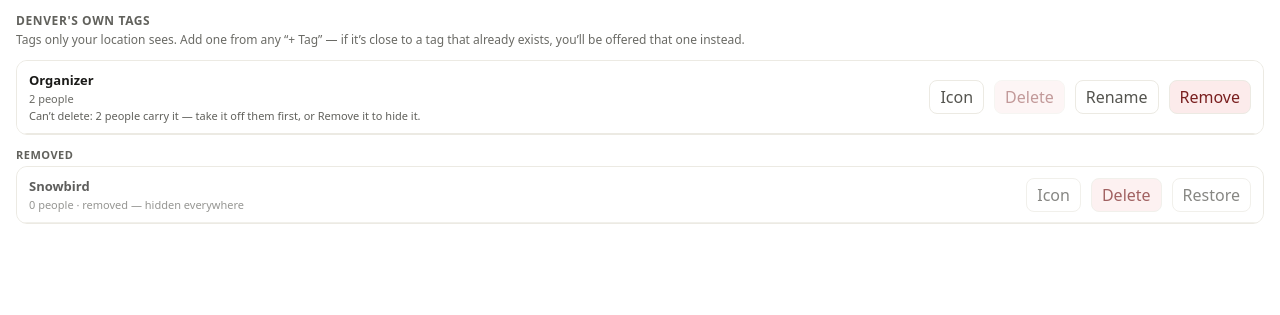
Test: E) Settings › Tags: Icon and Delete › Icon opens the curated grid and saves the pick
The width and height of the screenshot is (1280, 315).
Click the button "Icon" in the row of "Can’t delete:" at (957, 97), box [929,80,984,114]
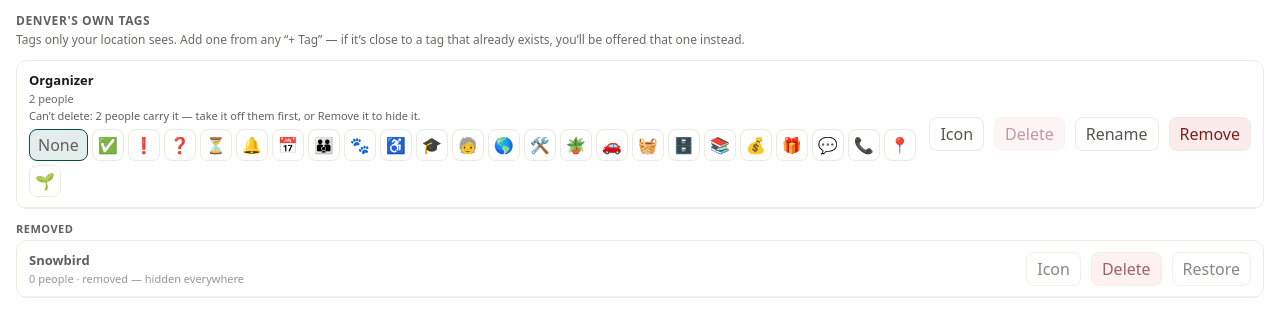
Expected: the number of radio buttons is 25
Click the radio button labelled "🗄️" at (684, 145), box [668,129,700,161]
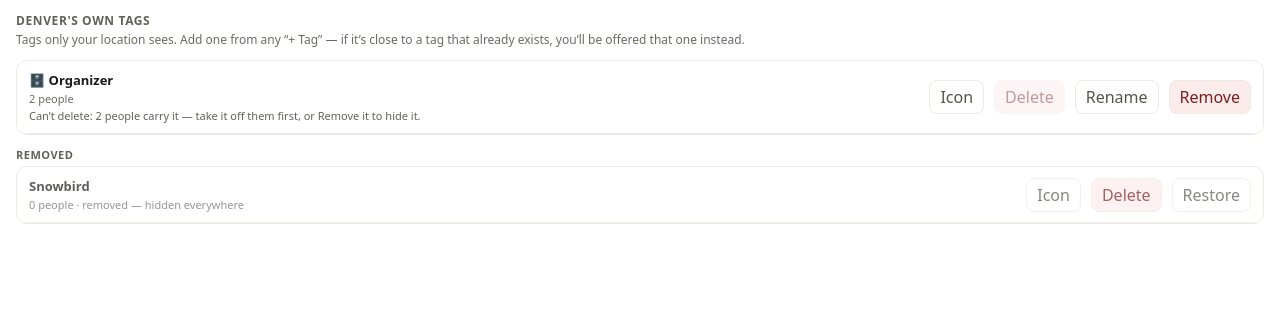
Expected: the element that starts with "🗄️ Organizer" is shown, [29,71,113,89]
